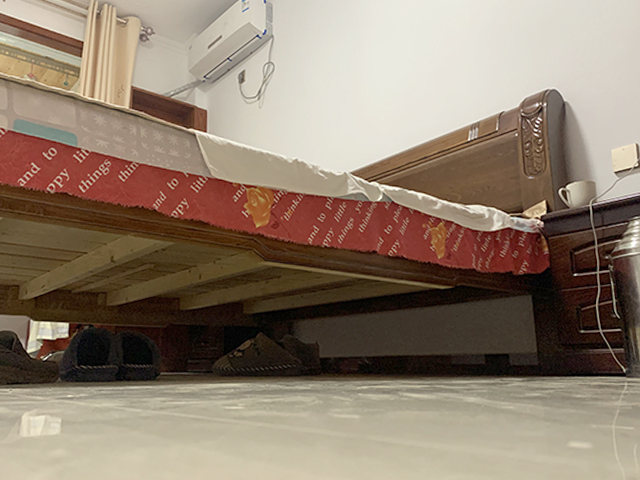bed: (1, 71, 567, 377)
cabinet: (541, 192, 640, 378)
slippers: (57, 327, 162, 382)
wire: (588, 158, 634, 374)
